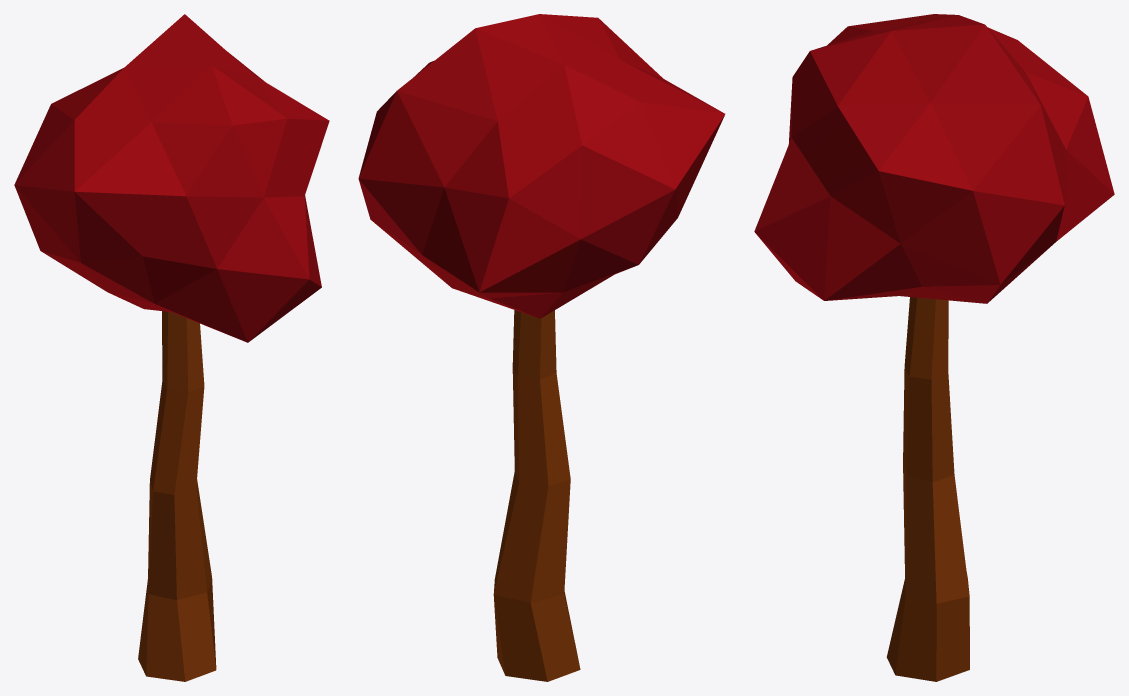
File: Tree_3_Red.fbx
3 views of the same model, side by side, from view 1: azimuth 30°, elevation 25°; view 2: azimuth 150°, elevation 25°; view 3: azimuth 270°, elevation 25° (orthographic). The views are drawn at different scales.
Parts seen in each view (by area): view 1: pPlatonic1, pCylinder2; view 2: pPlatonic1, pCylinder2; view 3: pPlatonic1, pCylinder2.
Part boxes in pixels (x1=…): pPlatonic1: x1=14, y1=14, x2=329, y2=342; pCylinder2: x1=138, y1=311, x2=216, y2=681; pPlatonic1: x1=358, y1=14, x2=725, y2=318; pCylinder2: x1=493, y1=310, x2=580, y2=681; pPlatonic1: x1=754, y1=14, x2=1114, y2=303; pCylinder2: x1=886, y1=297, x2=969, y2=681.
Size of the model in its own units: 523 by 1104 by 549.
